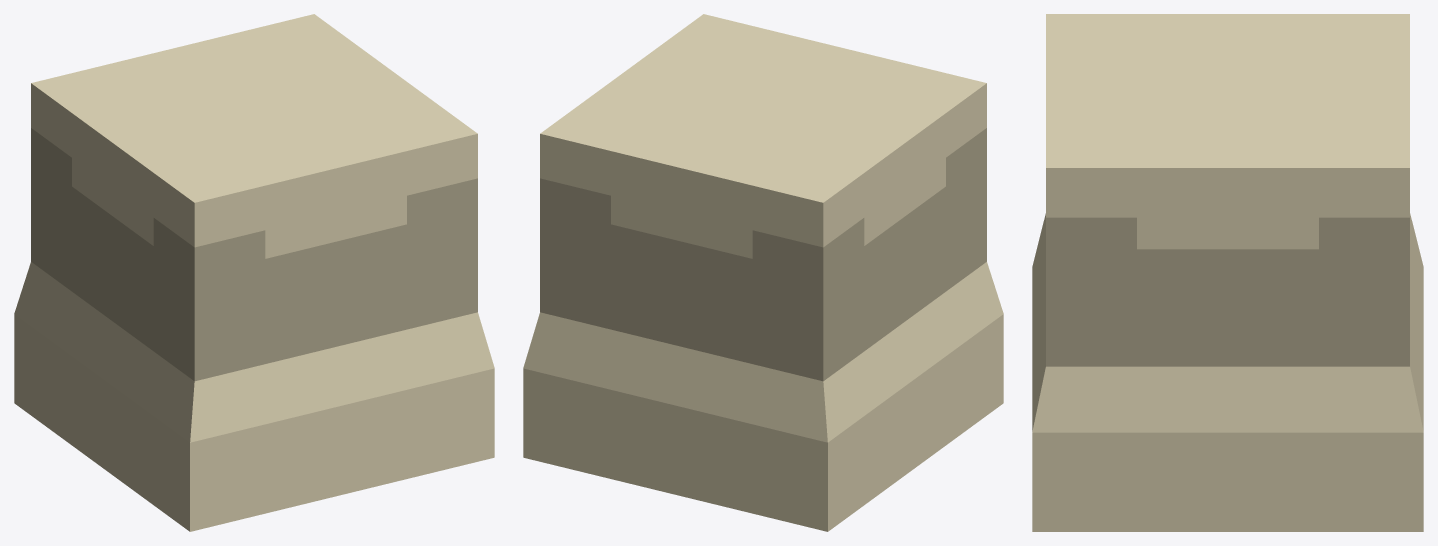
File: towerSquareBaseColor.fbx
3 views of the same model, side by side, from view 1: azimuth 30°, elevation 25°; view 2: azimuth 150°, elevation 25°; view 3: azimuth 270°, elevation 25° (orthographic). The views are drawn at different scales.
Visible parts, largest first — view 1: towerSquareBaseColor; view 2: towerSquareBaseColor; view 3: towerSquareBaseColor.
Boxes of the visible parts, x1,y1,x2,y2 form: towerSquareBaseColor: (14, 14, 494, 531); towerSquareBaseColor: (523, 14, 1003, 531); towerSquareBaseColor: (1032, 14, 1423, 531).
Size of the model in its own units: 10 by 10.1 by 10.
